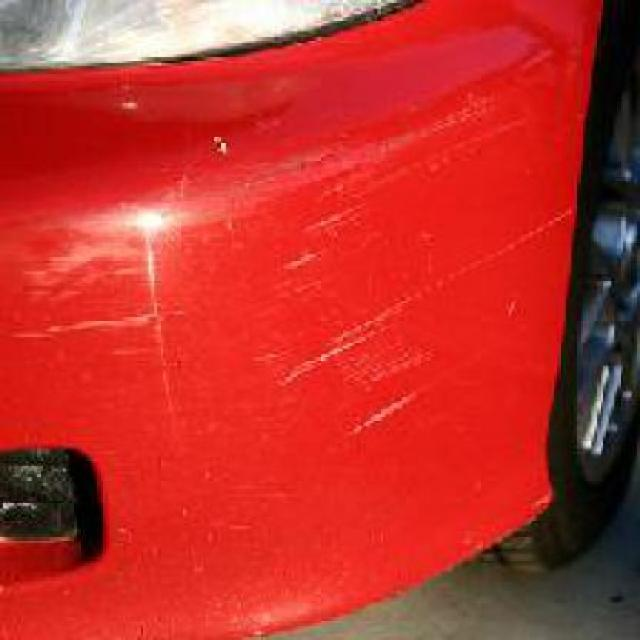dent-or-scratch: (288, 164, 438, 430)
